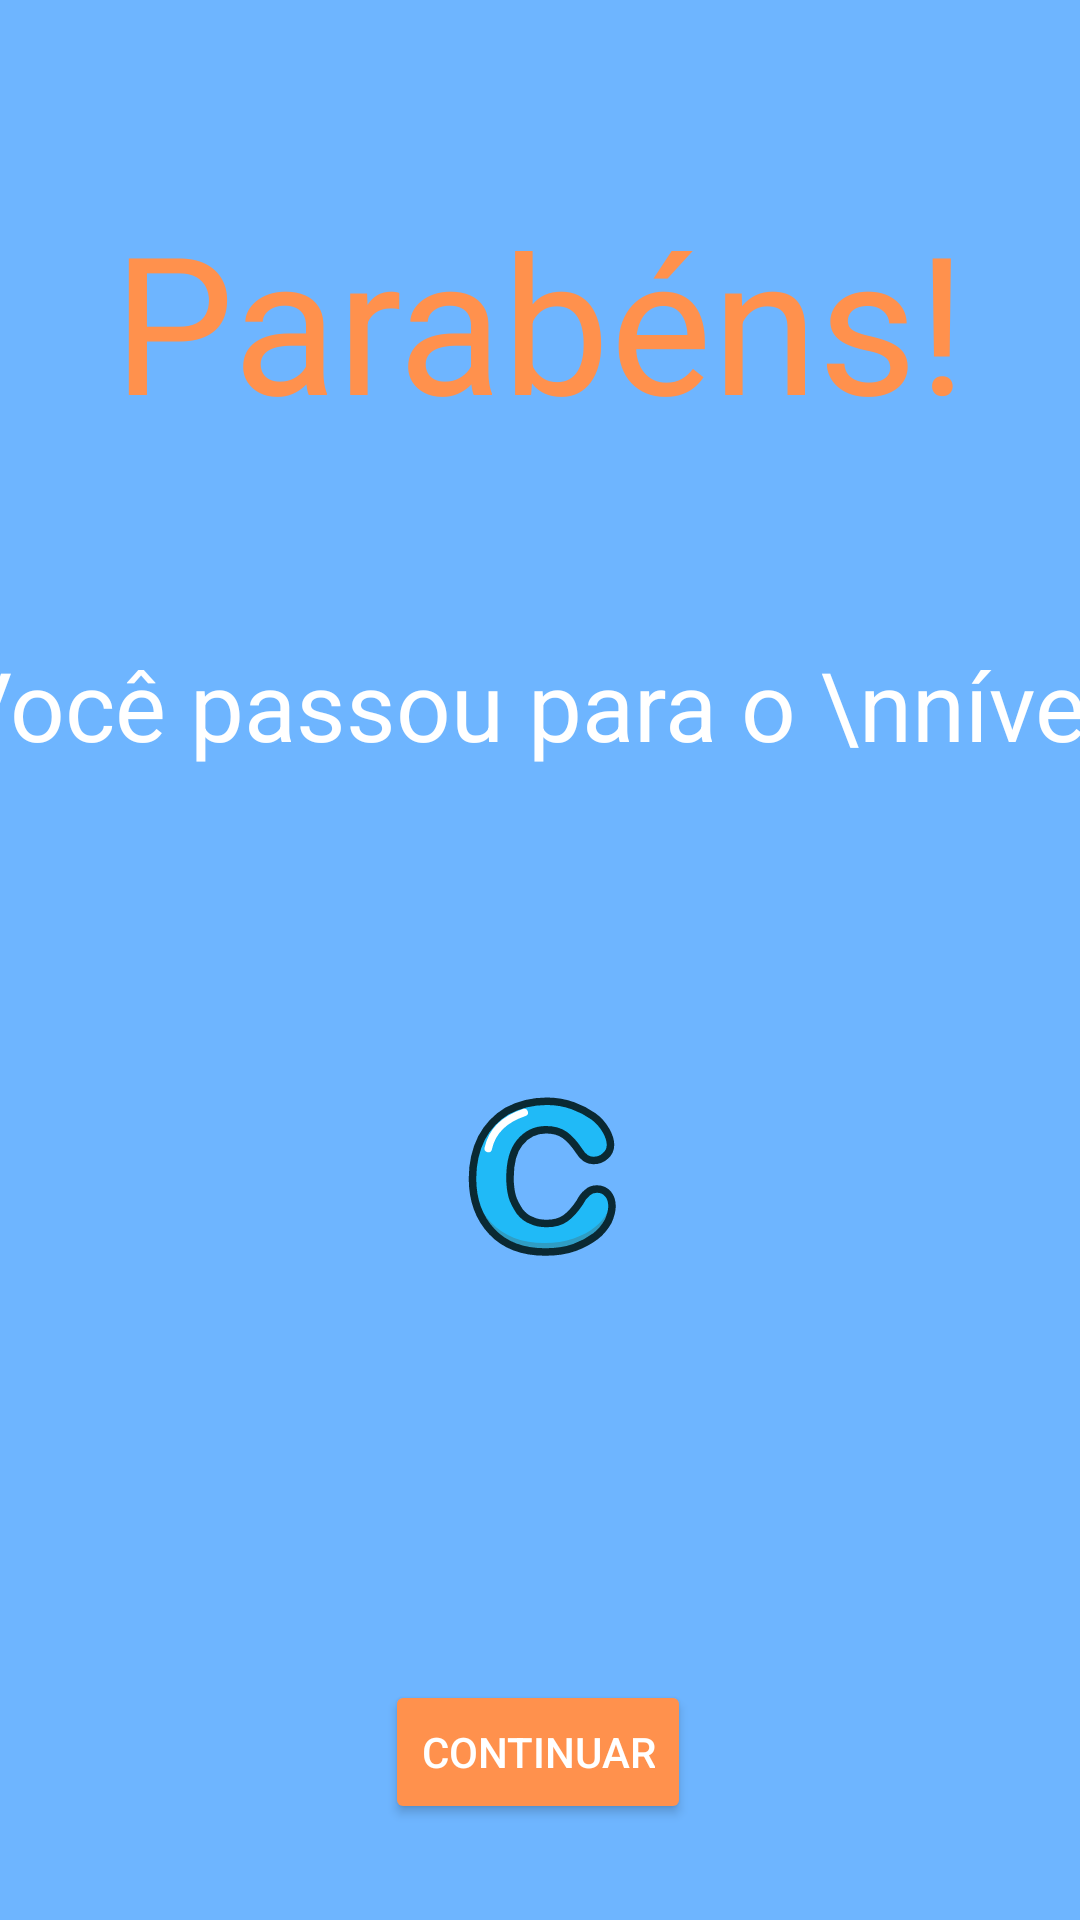

Screen size 1080×1920. Icon name, then its center in pixels as (x=x, y=y):
nivelc: (x=542, y=1176)
